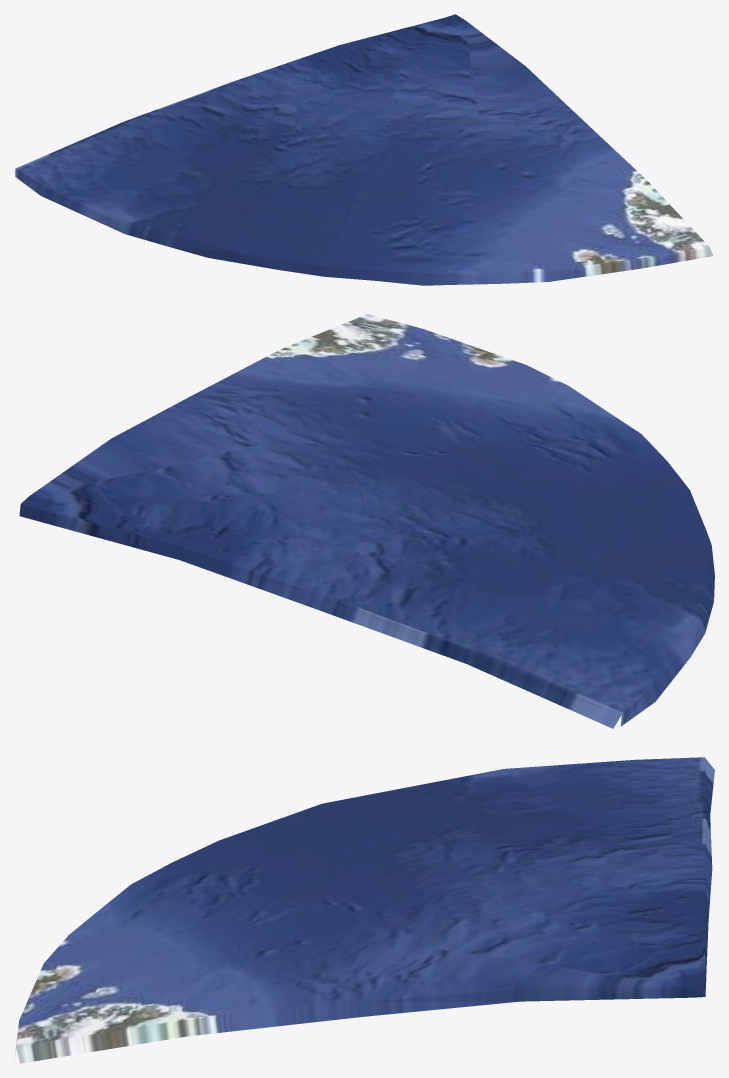
The picture shows the model from 3 angles, top to bottom: view 1: azimuth 30°, elevation 25°; view 2: azimuth 150°, elevation 25°; view 3: azimuth 270°, elevation 25°; orthographic projection. The views are drawn at different scales.
Bounding box in the file's own units: 1269524 × 153267 × 1273555.
Materials: 1 (1 with a texture image).
